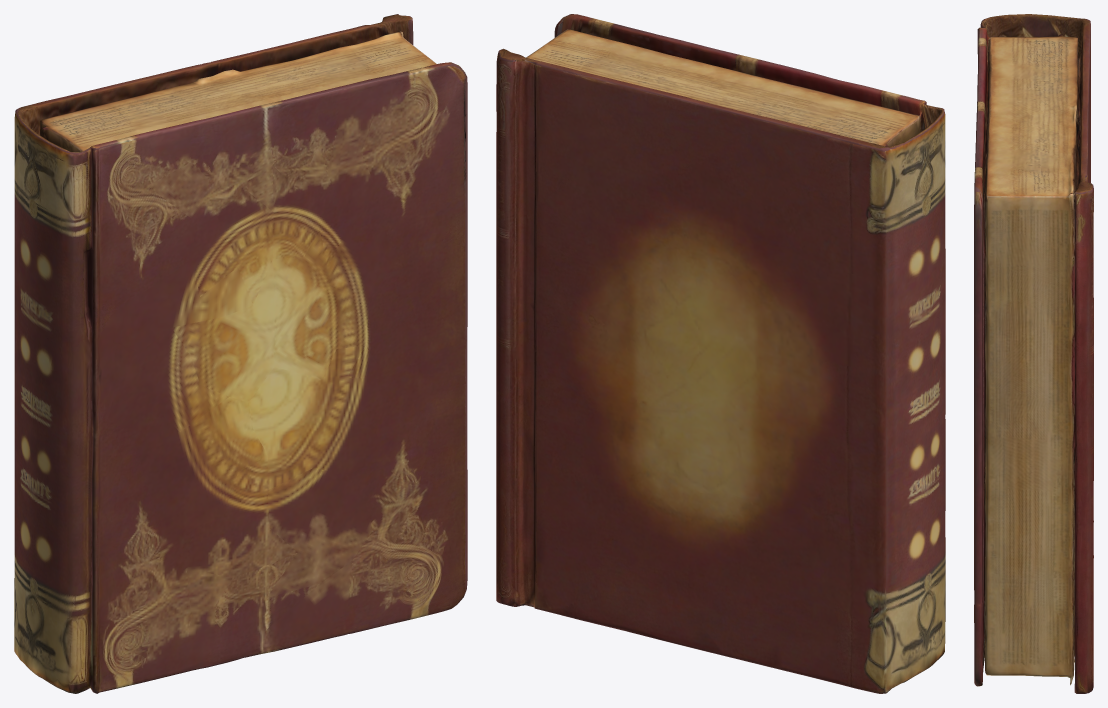
File: book2.glb
3 renders of one model, left to right at view 1: azimuth 30°, elevation 25°; view 2: azimuth 150°, elevation 25°; view 3: azimuth 270°, elevation 25°, orthographic. The views are drawn at different scales.
Bounding box in the file's own units: 1.55 × 2 × 0.4342.
1 material, 1 textured.
